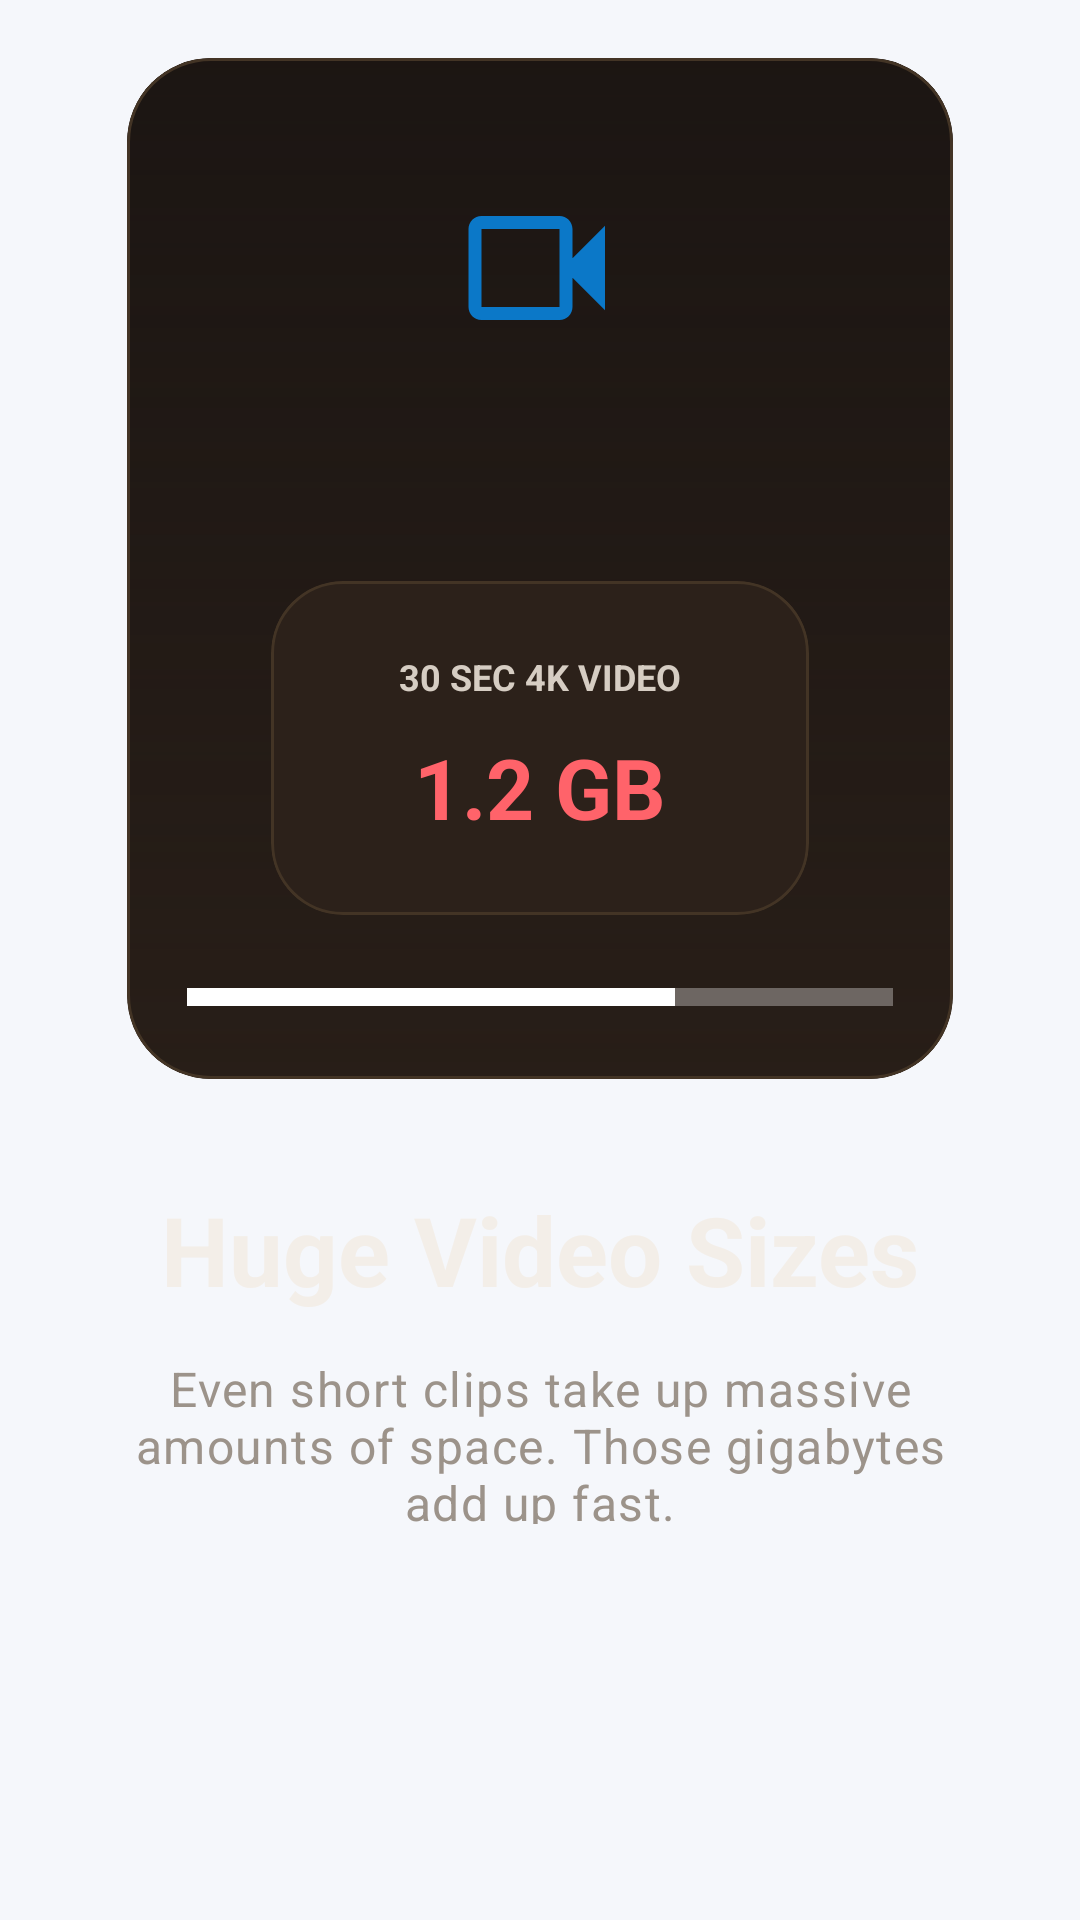

Where to tap for icons on this 1080px x 1920px app screen, as [x,y]:
video: [536,268]
